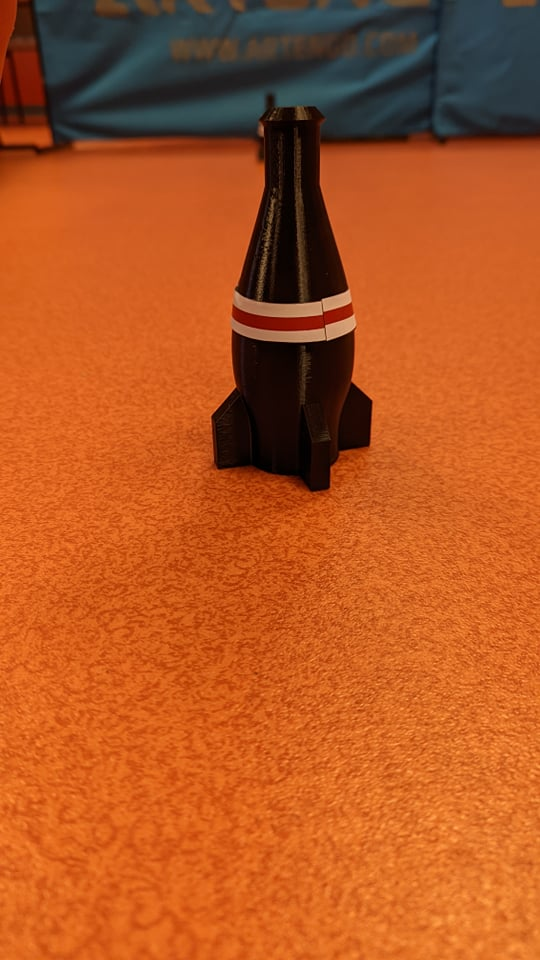bottle: (195, 114, 391, 510)
